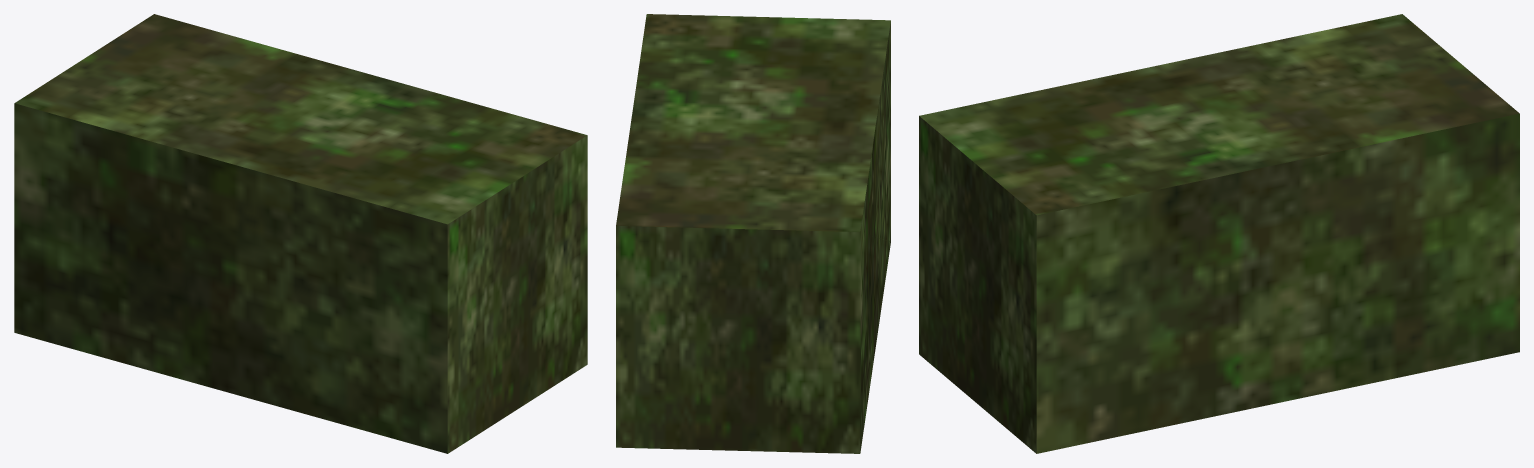
File: OVERHILL_A_01_STONE_BLOCK_25.fbx
3 renders of one model, left to right at view 1: azimuth 30°, elevation 25°; view 2: azimuth 150°, elevation 25°; view 3: azimuth 270°, elevation 25°, orthographic. The views are drawn at different scales.
Visible parts, largest first — view 1: OVERHILL_A_01_STONE_BLOCK_25; view 2: OVERHILL_A_01_STONE_BLOCK_25; view 3: OVERHILL_A_01_STONE_BLOCK_25.
Part boxes in pixels (bbox=[...]): OVERHILL_A_01_STONE_BLOCK_25: bbox=[14, 14, 587, 453]; OVERHILL_A_01_STONE_BLOCK_25: bbox=[616, 14, 890, 453]; OVERHILL_A_01_STONE_BLOCK_25: bbox=[919, 14, 1519, 453].
Size of the model in its own units: 14324 by 7913 by 18058.
1 material, 1 textured.
